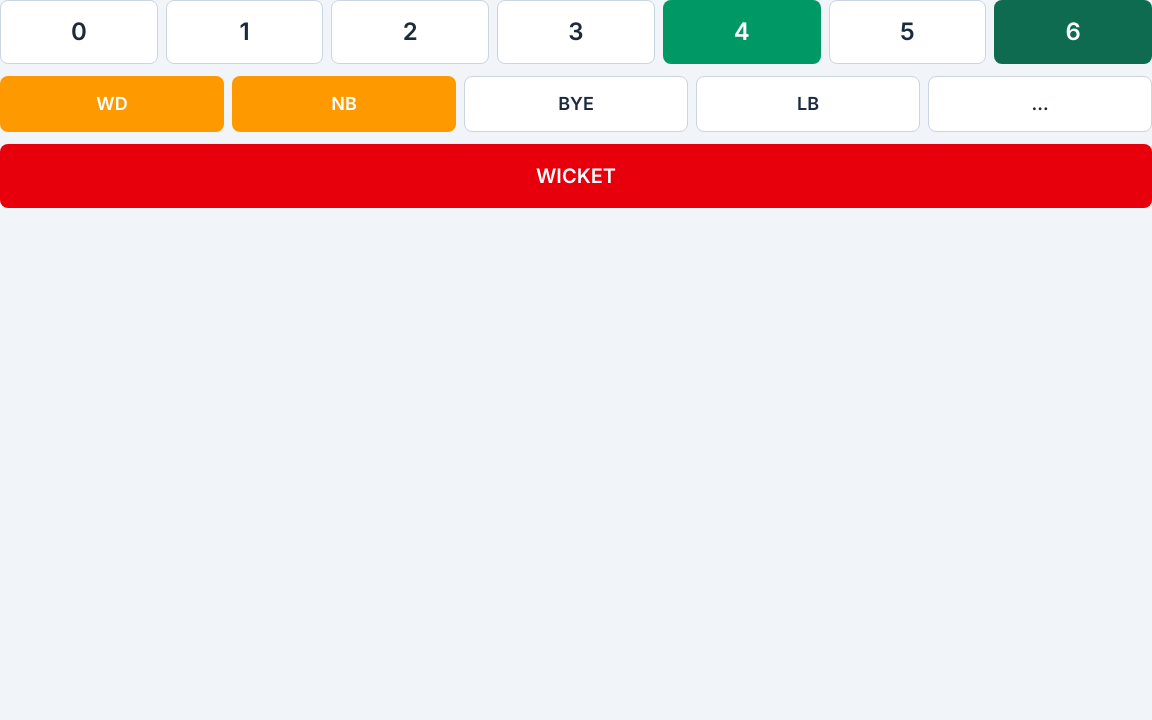
Test case: wide and no-ball open as dialogs › No ball opens a dialog; the runs and byes are chosen there and Score no-ball sends them
Click the button with aria-label "No ball": (344, 104) [232,76,456,132]
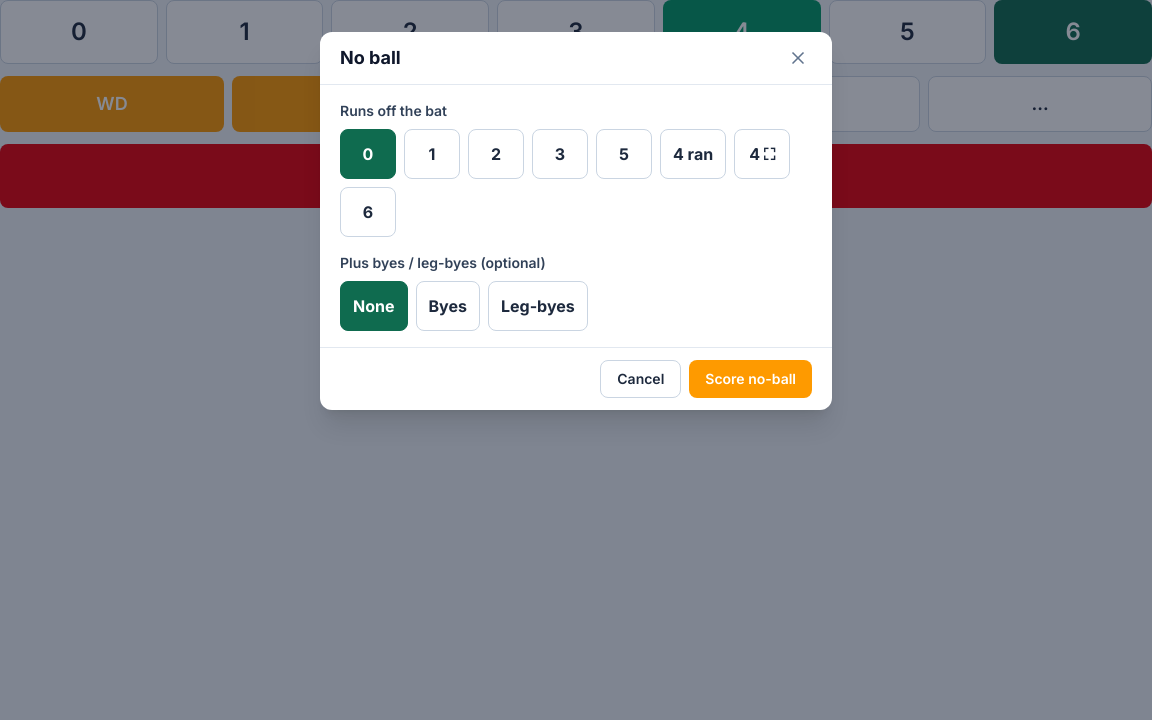
Click the button "2": (496, 154) [468,129,524,179]
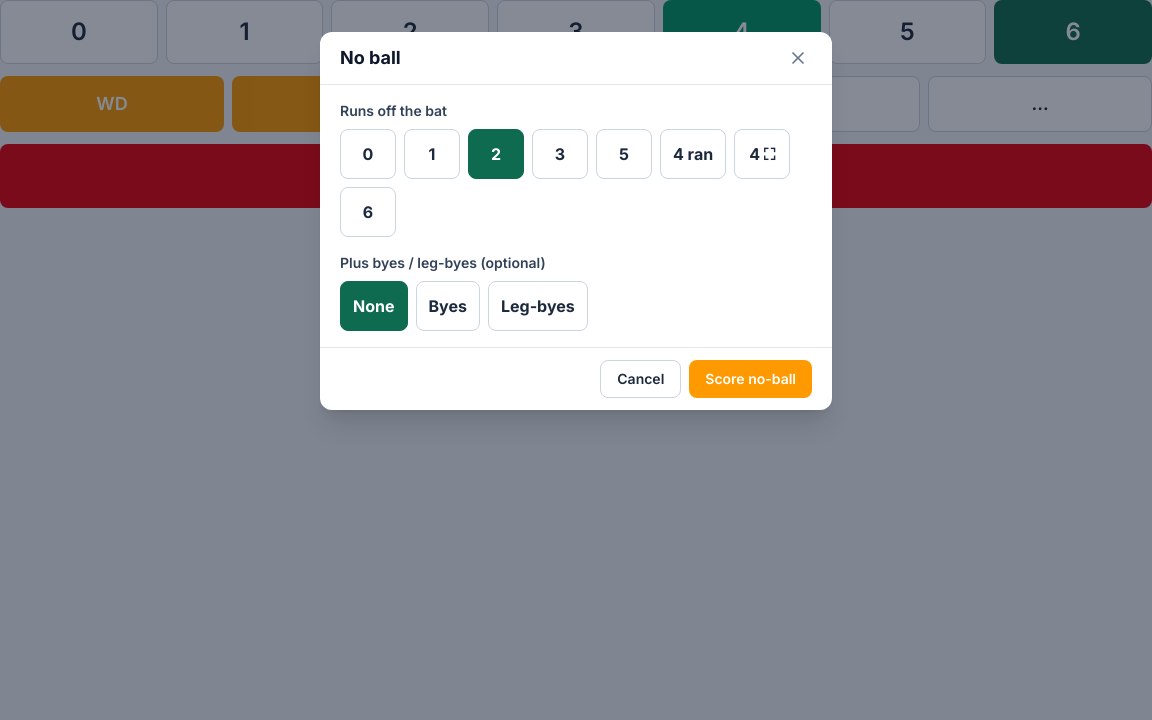
Click the button "Byes": (448, 306) [416,281,480,331]
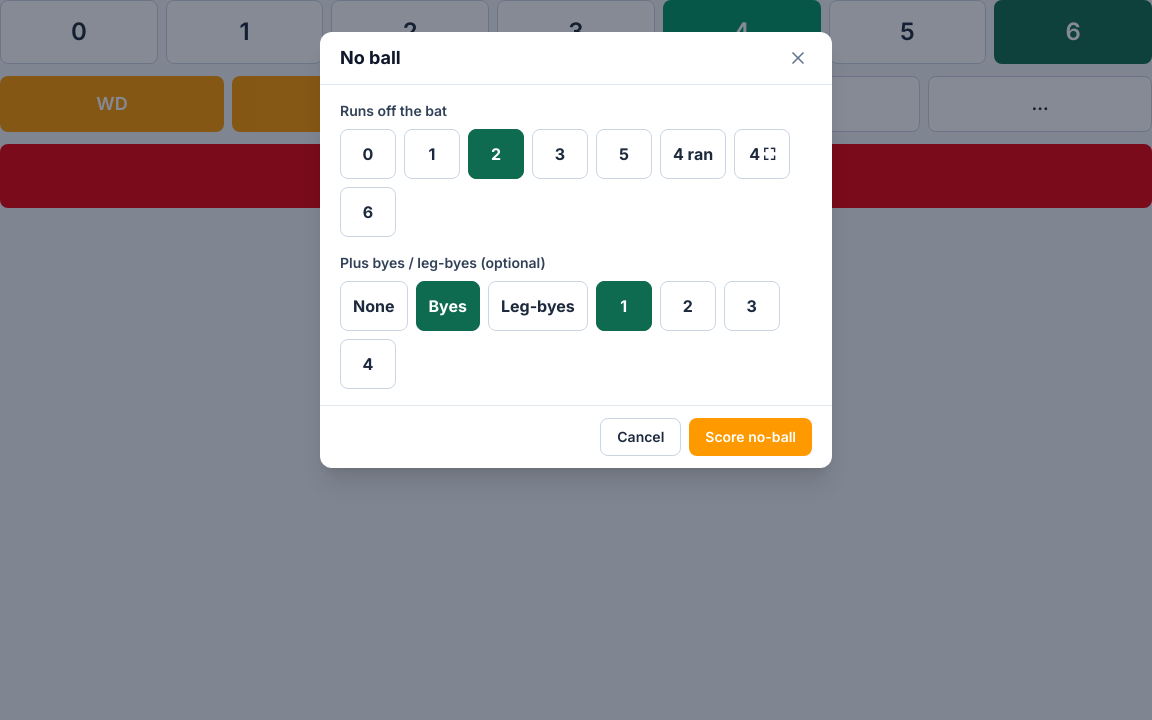
Click the 2nd button "3": (752, 306) [724,281,780,331]
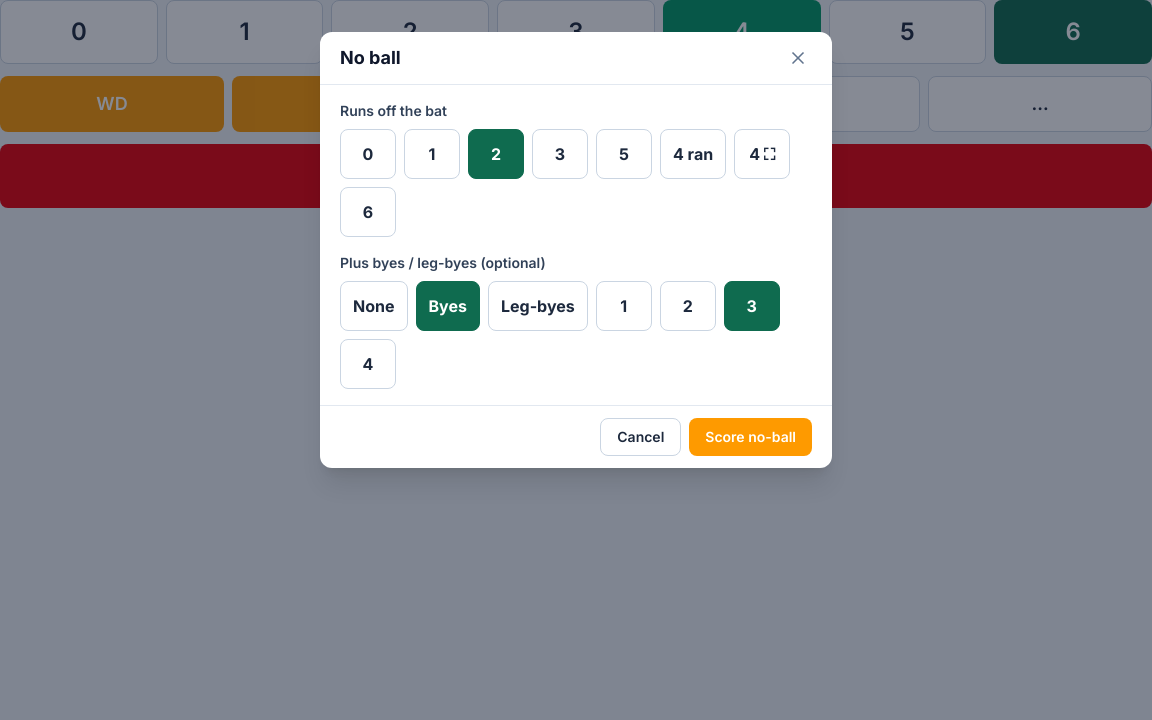
Click the button "Score no-ball": (751, 437) [689,418,812,456]
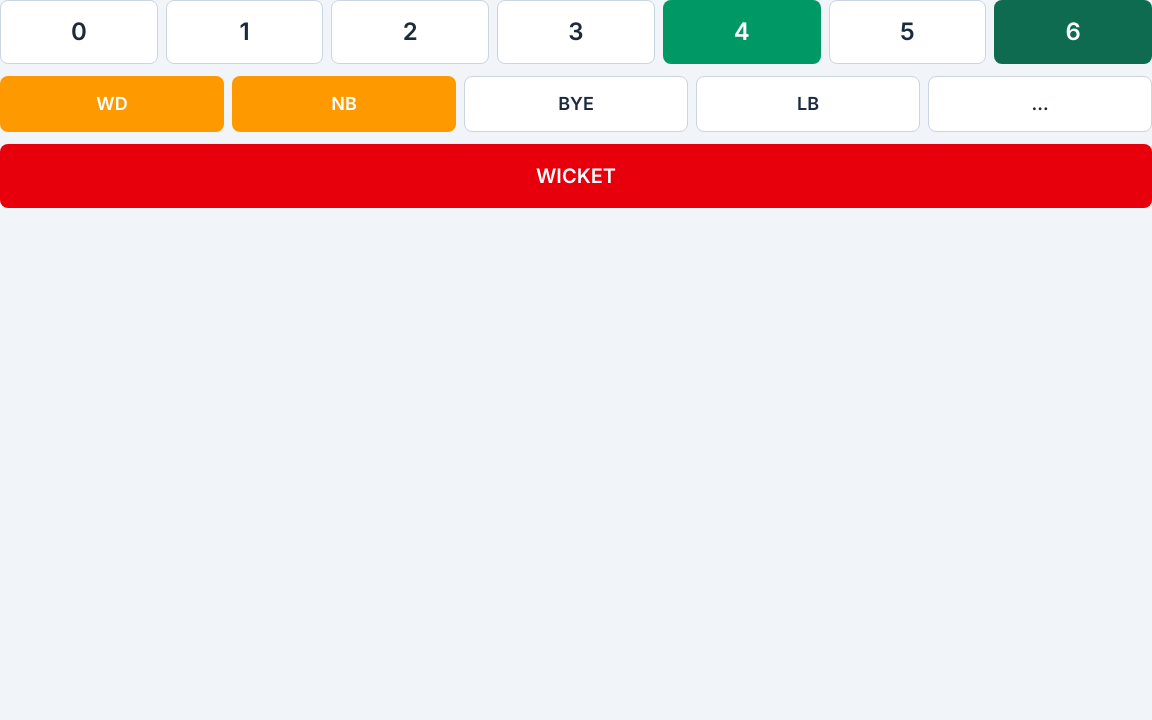
Expected: the dialog is gone
